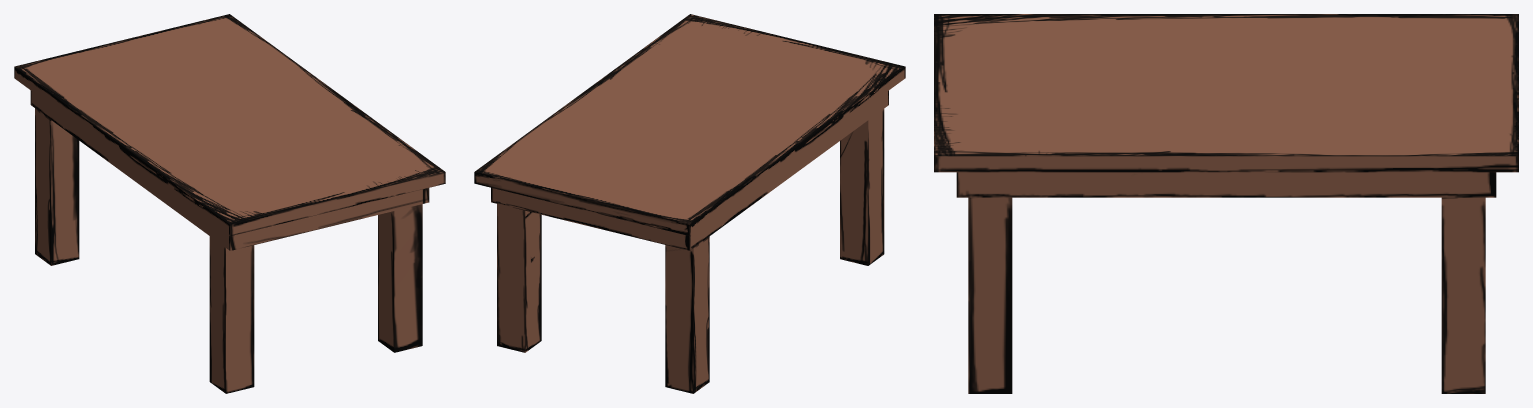
Rendered from table.fbx.
3 renders of one model, left to right at view 1: azimuth 30°, elevation 25°; view 2: azimuth 150°, elevation 25°; view 3: azimuth 270°, elevation 25°, orthographic. The views are drawn at different scales.
Parts seen in each view (by area): view 1: Cube.003; view 2: Cube.003; view 3: Cube.003.
Boxes of the visible parts, left/top/right/bottom form: Cube.003: left=14, top=14, right=445, bottom=393; Cube.003: left=474, top=14, right=905, bottom=393; Cube.003: left=934, top=14, right=1518, bottom=393.
Size of the model in its own units: 232 by 185 by 402.
Materials: 1 (1 with a texture image).
